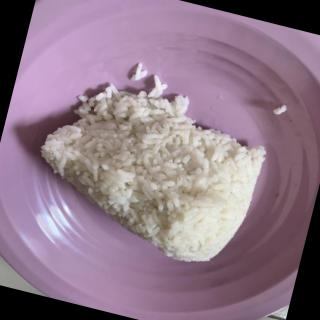Nasi: (23, 73, 273, 276)
